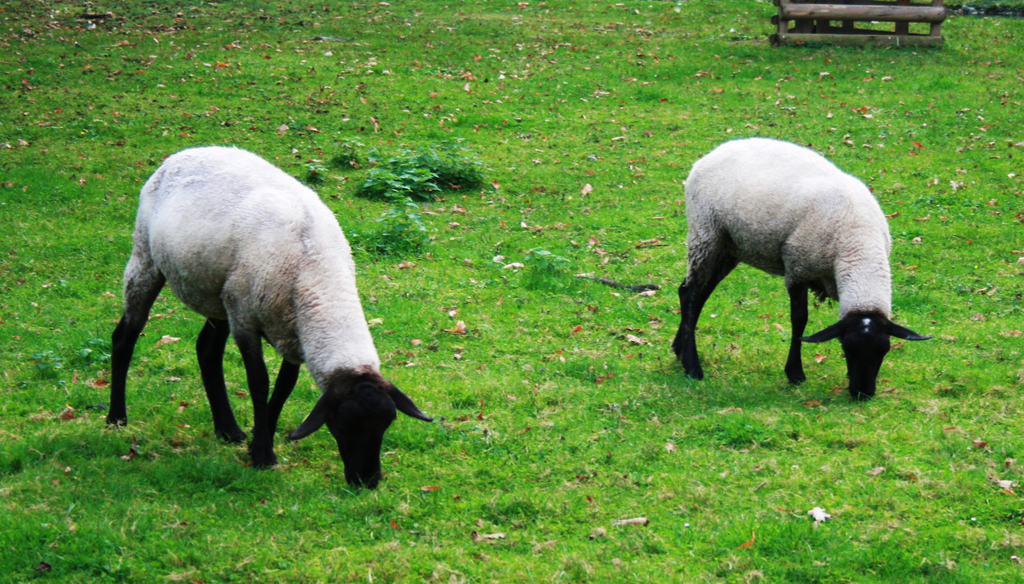sheep: (110, 141, 435, 488)
